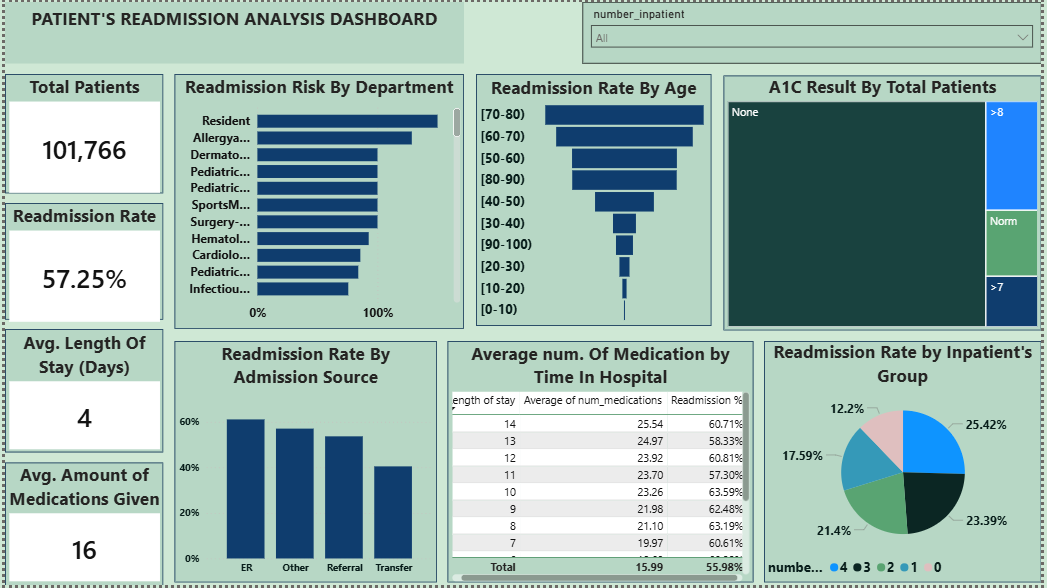

Layout of this report page (visuals, bound fields, positions):
{"tool":"powerbi","page":{"name":"Page 1","canvas":[1280,720],"ordinal":0},"visuals":[{"type":"shape","box":[209.3,88.9,357.4,314.8],"z":0},{"type":"shape","box":[581.5,88.9,290.7,311.1],"z":1000},{"type":"shape","box":[887,90.7,392.6,314.8],"z":2000},{"type":"shape","box":[546.3,418.5,377.8,298.1],"z":3000},{"type":"shape","box":[937,418.5,342.6,298.1],"z":4000},{"type":"shape","box":[209.3,418.5,324.1,298.1],"z":5000},{"type":"shape","box":[0,89.4,195.5,147.4],"z":6000},{"type":"shape","box":[0,404.2,195.5,152.4],"z":7000},{"type":"shape","box":[0,248.5,195.5,144.1],"z":8000},{"type":"shape","box":[0,568.2,195.5,152.4],"z":9000},{"type":"cardVisual","title":"Total Patients","fields":{"Data":["Analytics Measures.Total Patients"]},"box":[0,88.9,196.3,151.9],"z":10000},{"type":"cardVisual","title":"Readmission Rate","fields":{"Data":["Analytics Measures.Readmission %"]},"box":[0,248.1,196.3,151.9],"z":11000},{"type":"clusteredBarChart","title":"Readmission Risk By Department","fields":{"Y":["Analytics Measures.Readmission %"],"Category":["Worksheet.medical_specialty"]},"box":[209.3,88.9,357.4,314.8],"z":12000},{"type":"funnel","title":"Readmission Rate By Age","fields":{"Category":["Worksheet.age"],"Y":["CountNonNull(Worksheet.num_medications)"]},"box":[581.5,90.7,290.7,309.3],"z":13000},{"type":"treemap","title":"A1C Result By Total Patients","fields":{"Values":["Analytics Measures.Total Patients"],"Group":["Worksheet.A1Cresult"]},"box":[887,88.9,392.6,316.7],"z":14000},{"type":"clusteredColumnChart","title":"Readmission Rate By Admission Source","fields":{"Y":["Analytics Measures.Readmission %"],"Category":["Worksheet.admission_source_id 2"]},"box":[209.3,418.5,324.1,298.1],"z":15000},{"type":"pieChart","title":"Readmission Rate by  Inpatient''s Group","fields":{"Category":["Worksheet.number_inpatient"],"Y":["Analytics Measures.Readmission %"]},"box":[937,416.7,342.6,301.9],"z":16000},{"type":"tableEx","title":"Average num. Of Medication by Time In Hospital","fields":{"Values":["Worksheet.time_in_hospital","Avg(Worksheet.num_medications)","Analytics Measures.Readmission %"]},"box":[546.3,418.5,377.8,301.9],"z":17000},{"type":"cardVisual","title":"Avg. Length Of Stay (Days)","fields":{"Data":["Analytics Measures.Avg Time in Hospital"]},"box":[0,405.6,196.3,151.9],"z":18000},{"type":"cardVisual","title":"Avg. Amount of Medications Given","fields":{"Data":["Analytics Measures.Avg Medications"]},"box":[0,568.5,196.3,151.9],"z":19000},{"type":"slicer","fields":{"Values":["Worksheet.number_inpatient"]},"box":[713,0,566.7,75.9],"z":20000},{"type":"textbox","box":[0,0,566.7,75.9],"z":20001}]}

Visuals, with their boxes in screenshot pixels (x1, y1, x2, y2), scaled from the page's 1280x720 canvas onto the 1047x588 screenshot:
shape: (171, 73, 464, 330)
shape: (476, 73, 713, 327)
shape: (726, 74, 1046, 331)
shape: (447, 342, 756, 585)
shape: (766, 342, 1046, 585)
shape: (171, 342, 436, 585)
shape: (0, 73, 160, 193)
shape: (0, 330, 160, 455)
shape: (0, 203, 160, 321)
shape: (0, 464, 160, 587)
"Total Patients" cardVisual: (0, 73, 161, 197)
"Readmission Rate" cardVisual: (0, 203, 161, 327)
"Readmission Risk By Department" clusteredBarChart: (171, 73, 464, 330)
"Readmission Rate By Age" funnel: (476, 74, 713, 327)
"A1C Result By Total Patients" treemap: (726, 73, 1046, 331)
"Readmission Rate By Admission Source" clusteredColumnChart: (171, 342, 436, 585)
"Readmission Rate by  Inpatient''s Group" pieChart: (766, 340, 1046, 587)
"Average num. Of Medication by Time In Hospital" tableEx: (447, 342, 756, 587)
"Avg. Length Of Stay (Days)" cardVisual: (0, 331, 161, 455)
"Avg. Amount of Medications Given" cardVisual: (0, 464, 161, 587)
slicer - Worksheet.number_inpatient: (583, 0, 1046, 62)
textbox: (0, 0, 464, 62)
